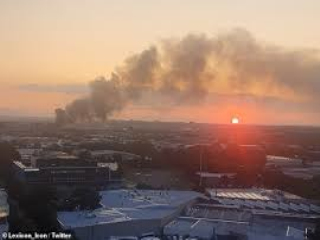smoke: (41, 28, 310, 130)
